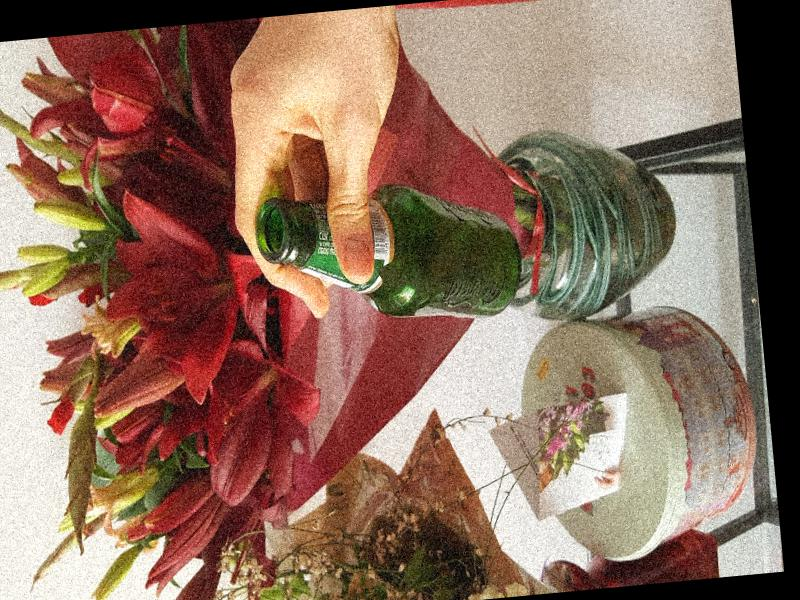Beer: (254, 173, 525, 339)
